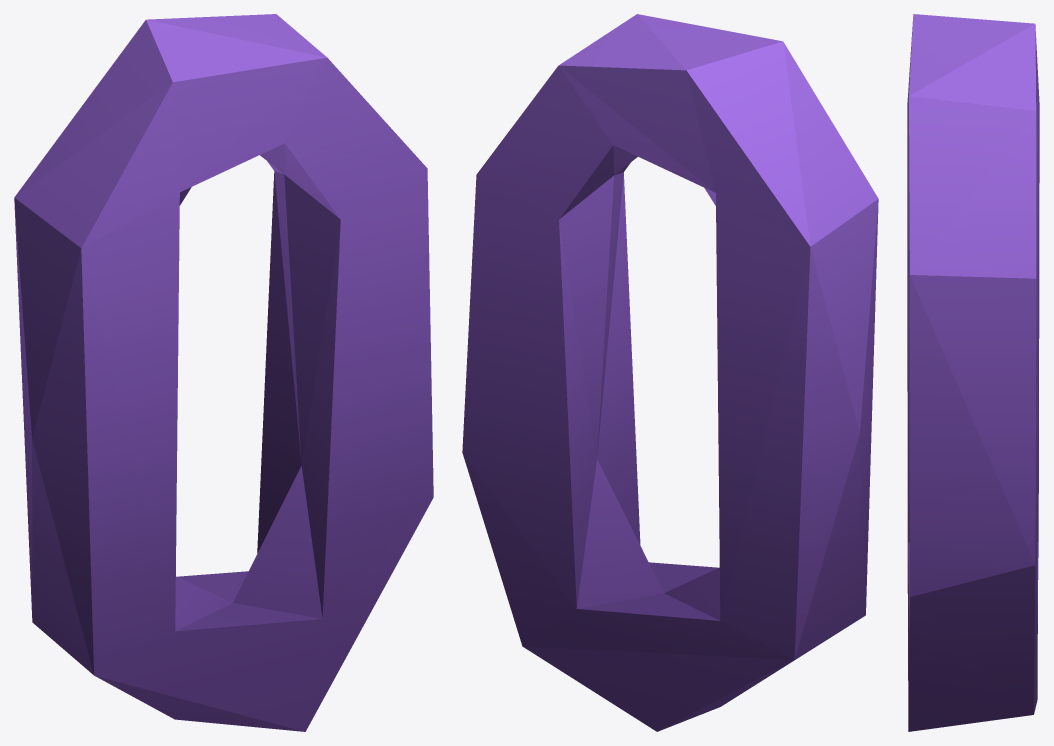
The picture shows the model from 3 angles, left to right: view 1: azimuth 30°, elevation 25°; view 2: azimuth 150°, elevation 25°; view 3: azimuth 270°, elevation 25°; orthographic projection. The views are drawn at different scales.
Parts seen in each view (by area): view 1: Zero; view 2: Zero; view 3: Zero.
Part boxes in pixels (x1,y1,x2,y2): Zero: (14,14,433,731); Zero: (462,14,878,731); Zero: (907,14,1039,731).
Size of the model in its own units: 0.2892 by 0.5052 by 0.0912.
